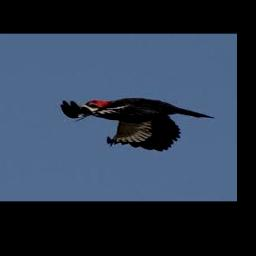Woodpecker: (61, 97, 216, 152)
